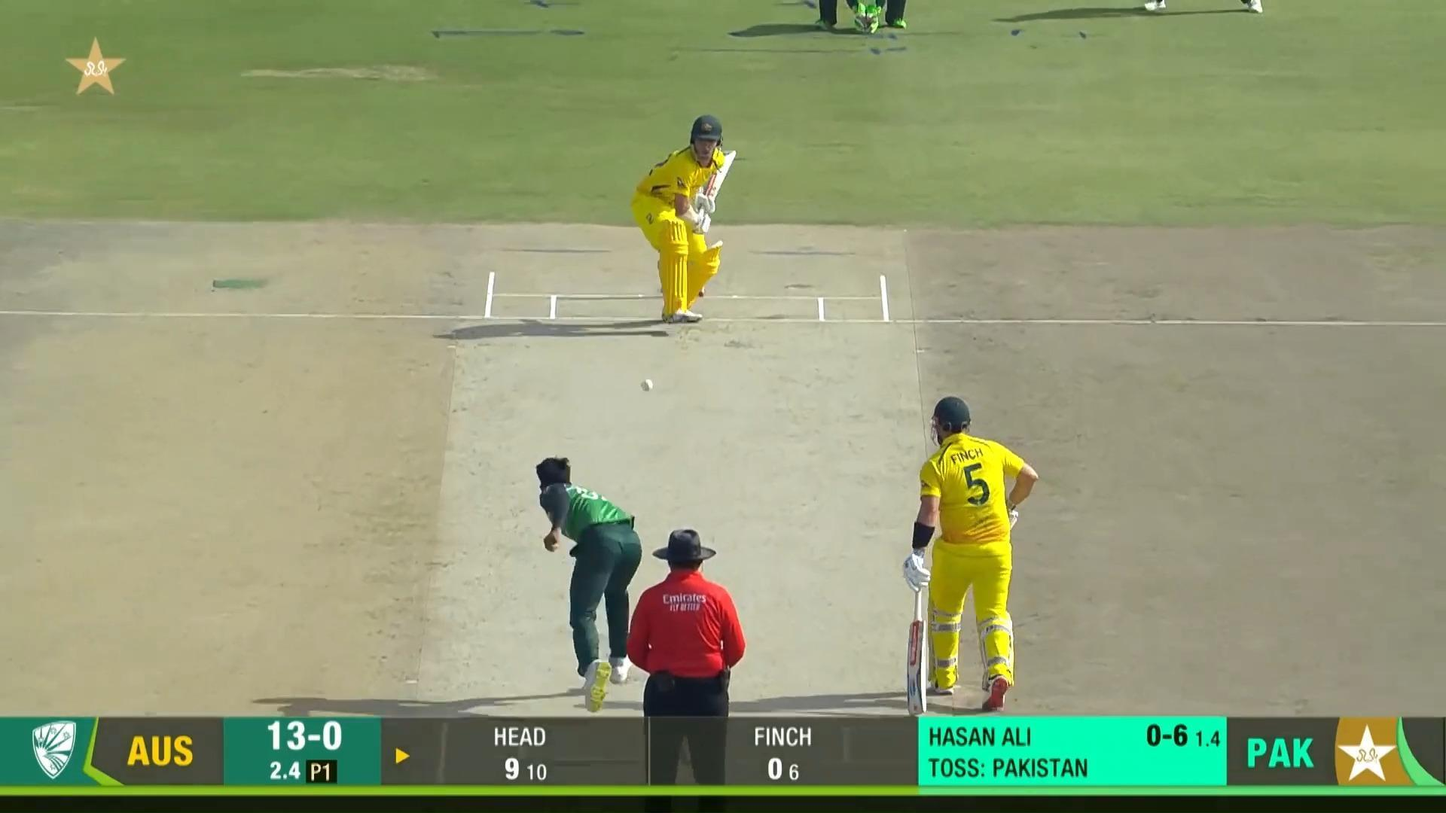BM 1: (632, 114, 738, 324)
BO: (533, 455, 647, 714)
